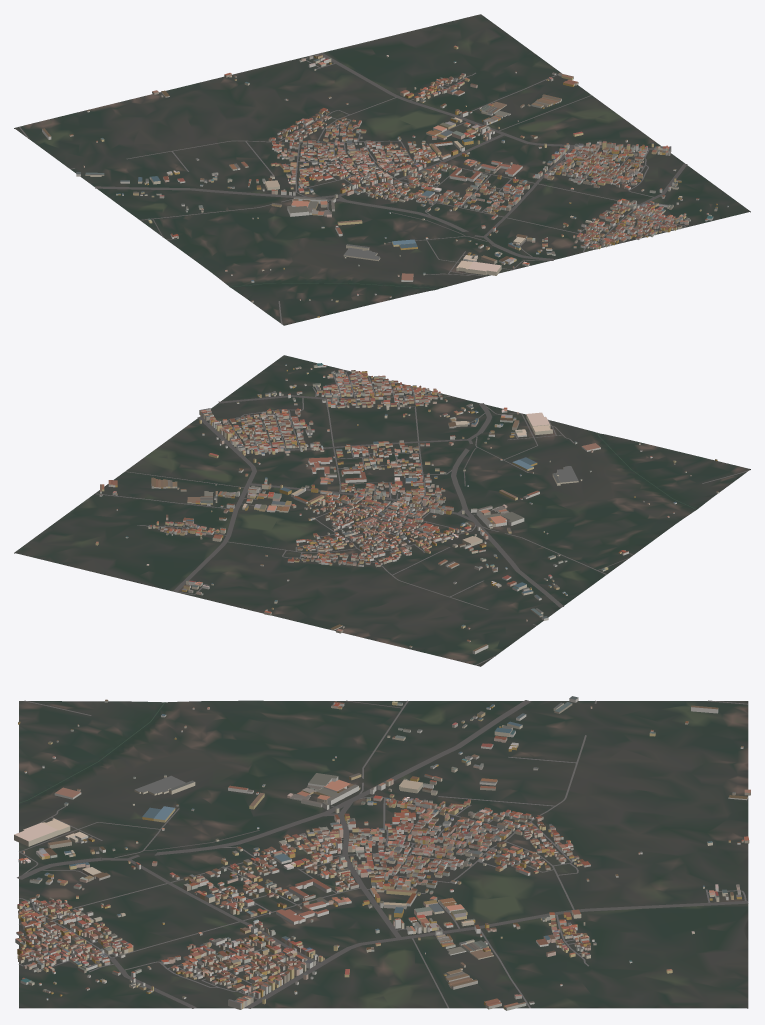
3 views of the same model, one above another, from view 1: azimuth 30°, elevation 25°; view 2: azimuth 150°, elevation 25°; view 3: azimuth 270°, elevation 25° (orthographic). The views are drawn at different scales.
Visible parts, largest first — view 1: ground, buildings, roads; view 2: ground, buildings, roads; view 3: ground, buildings, roads.
Part boxes in pixels (left/top/right/bottom): ground: left=14, top=14, right=750, bottom=325; buildings: left=42, top=45, right=728, bottom=317; roads: left=19, top=52, right=687, bottom=324; ground: left=14, top=355, right=750, bottom=666; buildings: left=95, top=363, right=719, bottom=654; roads: left=94, top=371, right=748, bottom=665; ground: left=19, top=700, right=748, bottom=1008; buildings: left=14, top=696, right=750, bottom=1010; roads: left=17, top=700, right=748, bottom=1008.
Bounding box in the file's own units: 1419 × 26.94 × 1417.
